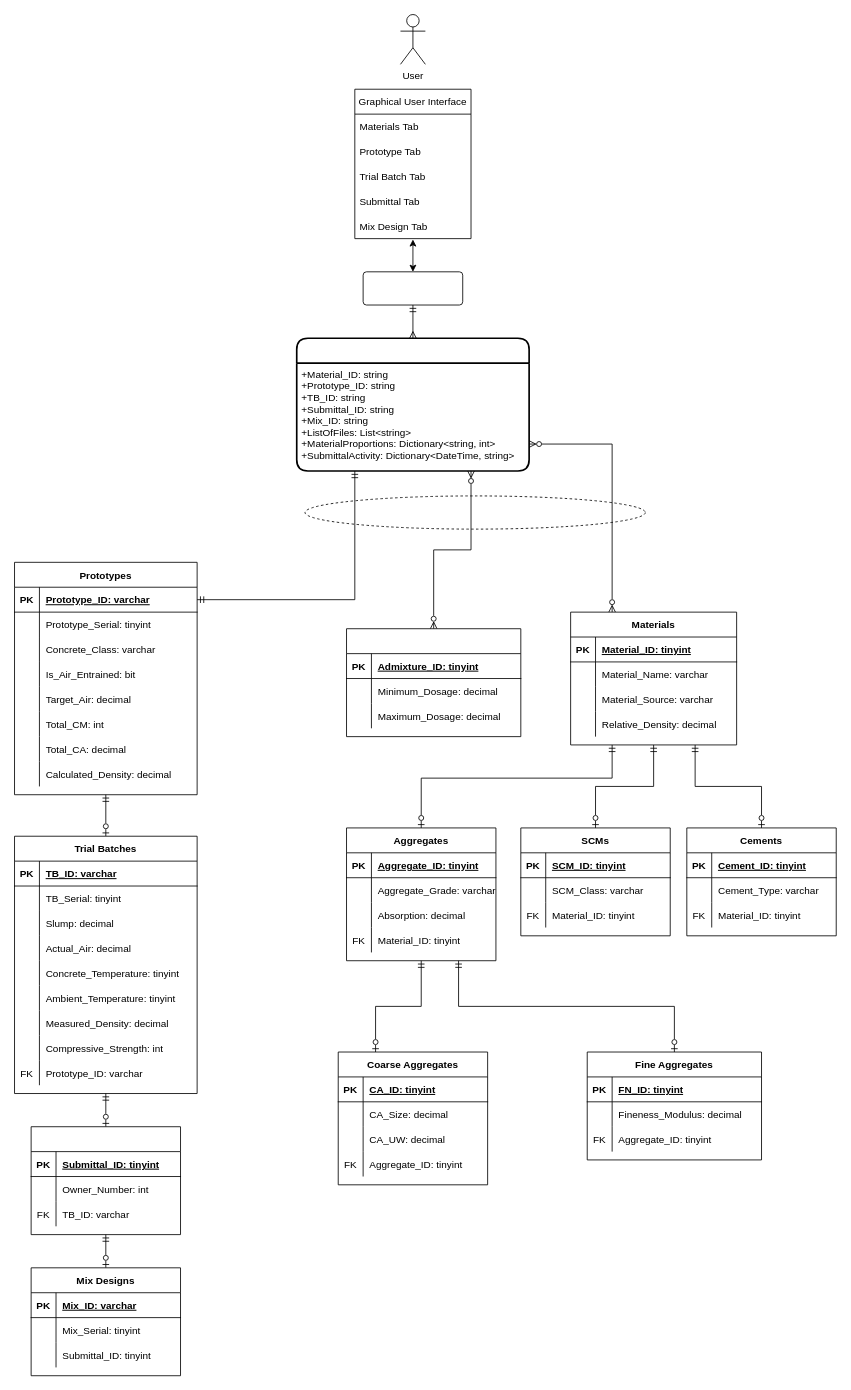
The diagram is 851 pixels wide and 1390 high, and some of its shapes have lost their labels. Here are the shapes that lost their labels. From the top down, the box of each, then its label:
(362, 271, 463, 305): MixProportions: List
(295, 337, 530, 471): MixProportion
(304, 495, 645, 529): db: DataContext
(346, 628, 521, 737): Admixtures
(30, 1126, 181, 1235): Submittals
